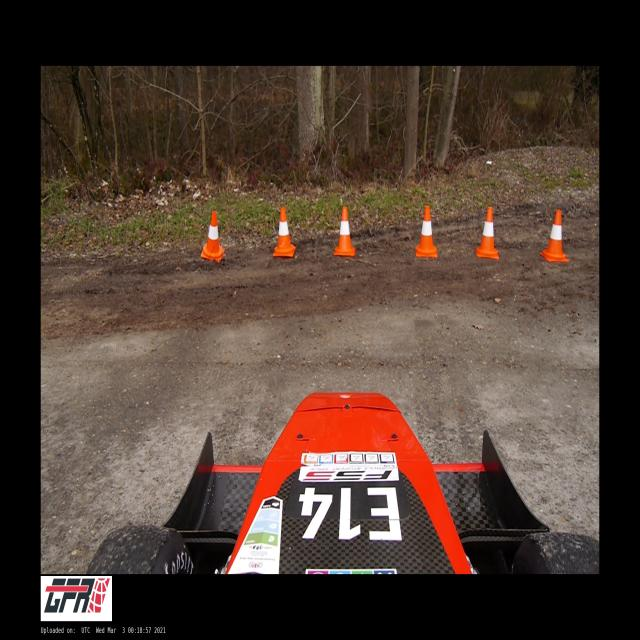orange_cone: (540, 210, 567, 261), (202, 212, 224, 262), (274, 207, 296, 257), (476, 208, 498, 258), (334, 207, 355, 256), (416, 206, 436, 256)
